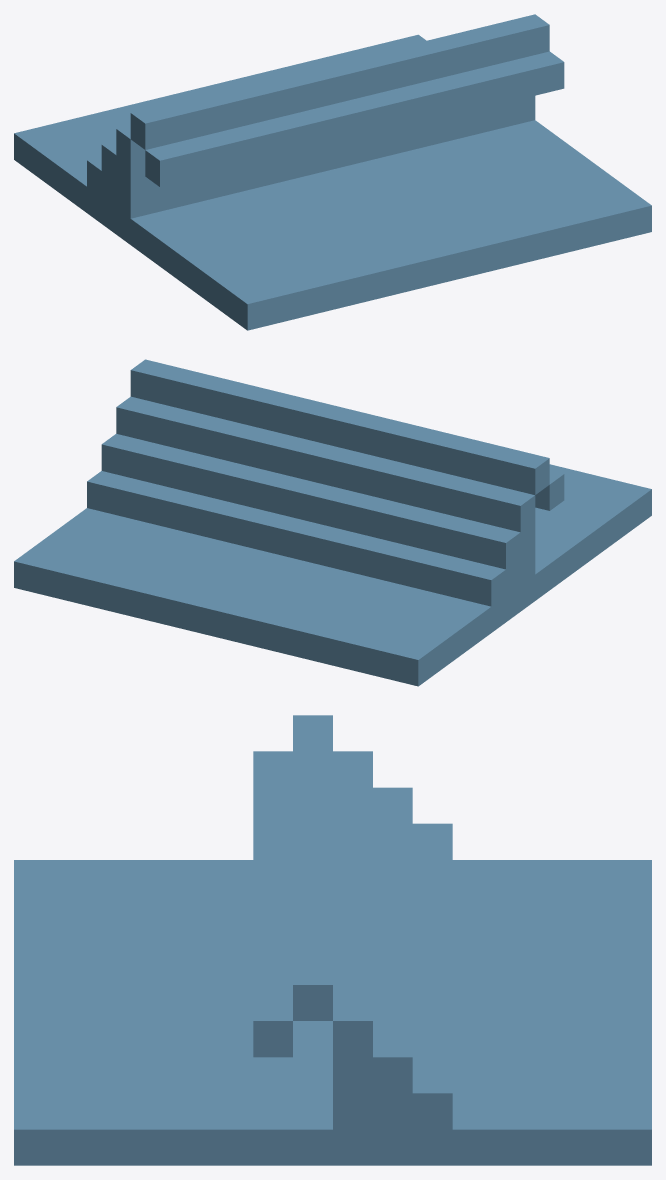
The model's file is water-04.obj.
3 renders of one model, top to bottom at view 1: azimuth 30°, elevation 25°; view 2: azimuth 150°, elevation 25°; view 3: azimuth 270°, elevation 25°, orthographic. The views are drawn at different scales.
Bounding box in the file's own units: 16 × 5 × 16.
1 material, 1 textured.
